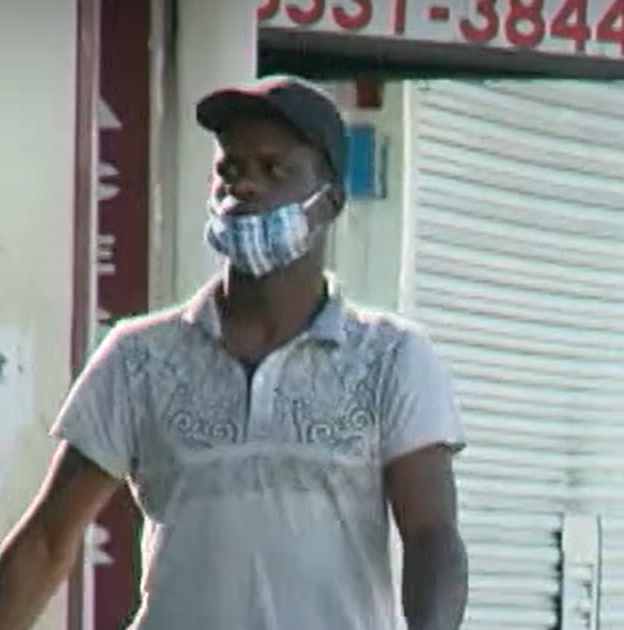mask_weared_incorrect: (202, 129, 352, 281)
